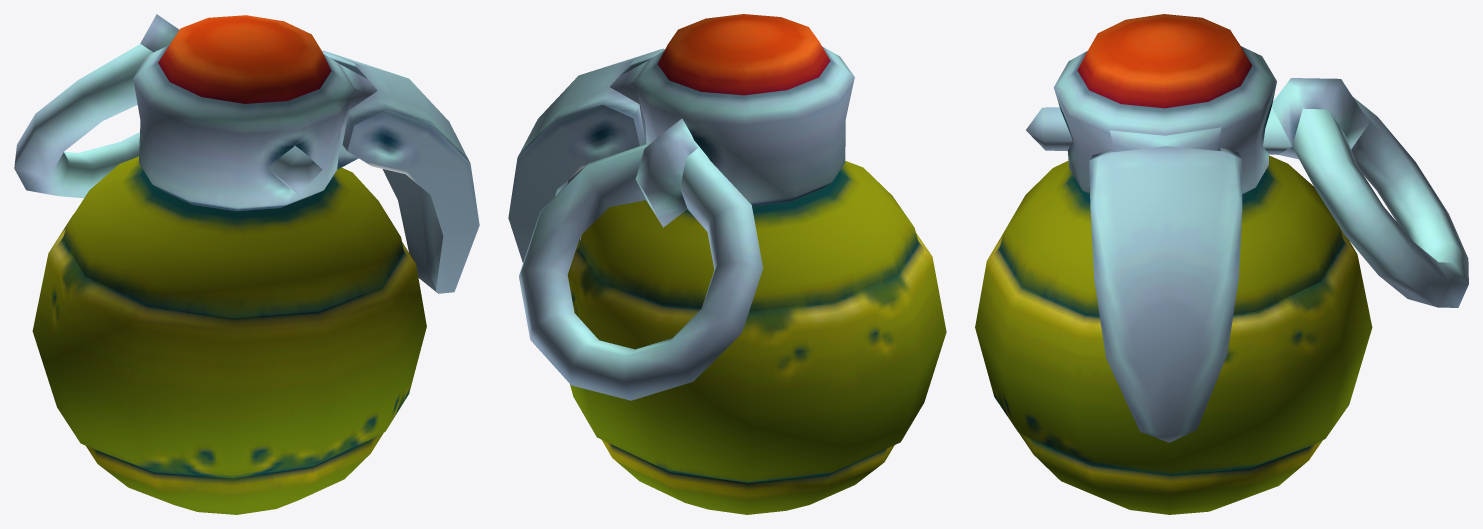
The model's file is Icon1.ico.obj.
3 renders of one model, left to right at view 1: azimuth 30°, elevation 25°; view 2: azimuth 150°, elevation 25°; view 3: azimuth 270°, elevation 25°, orthographic.
Size of the model in its own units: 4.43 by 4.9 by 4.68.
1 material, 1 textured.
